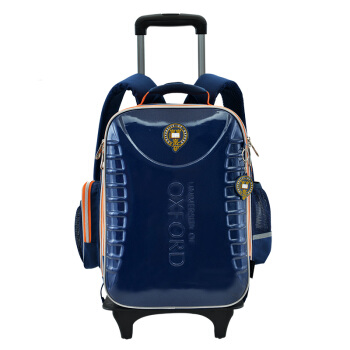luggage: (71, 12, 275, 340)
